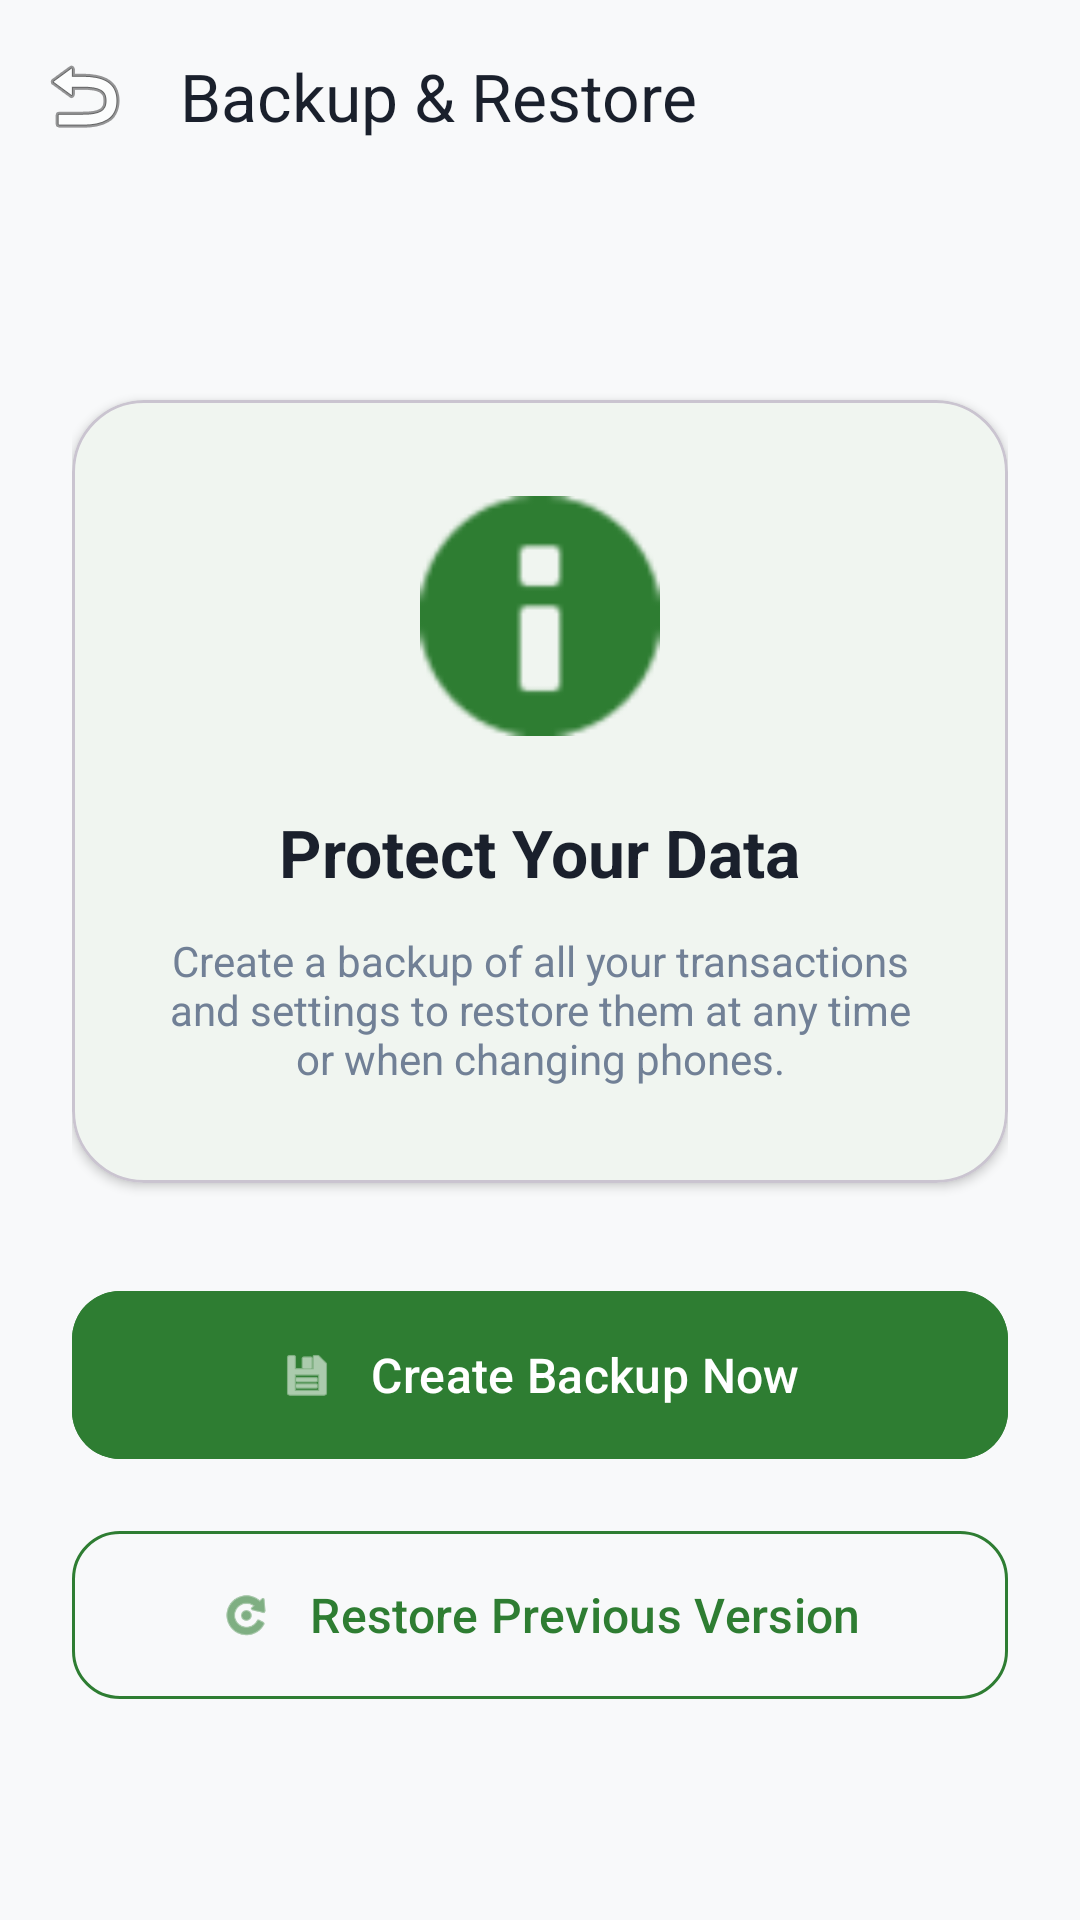

Named icons in this screenshot (1080 × 1920) and their bounding boxes, (x1, y1, x2, y2):
info: (420, 496, 660, 736)
